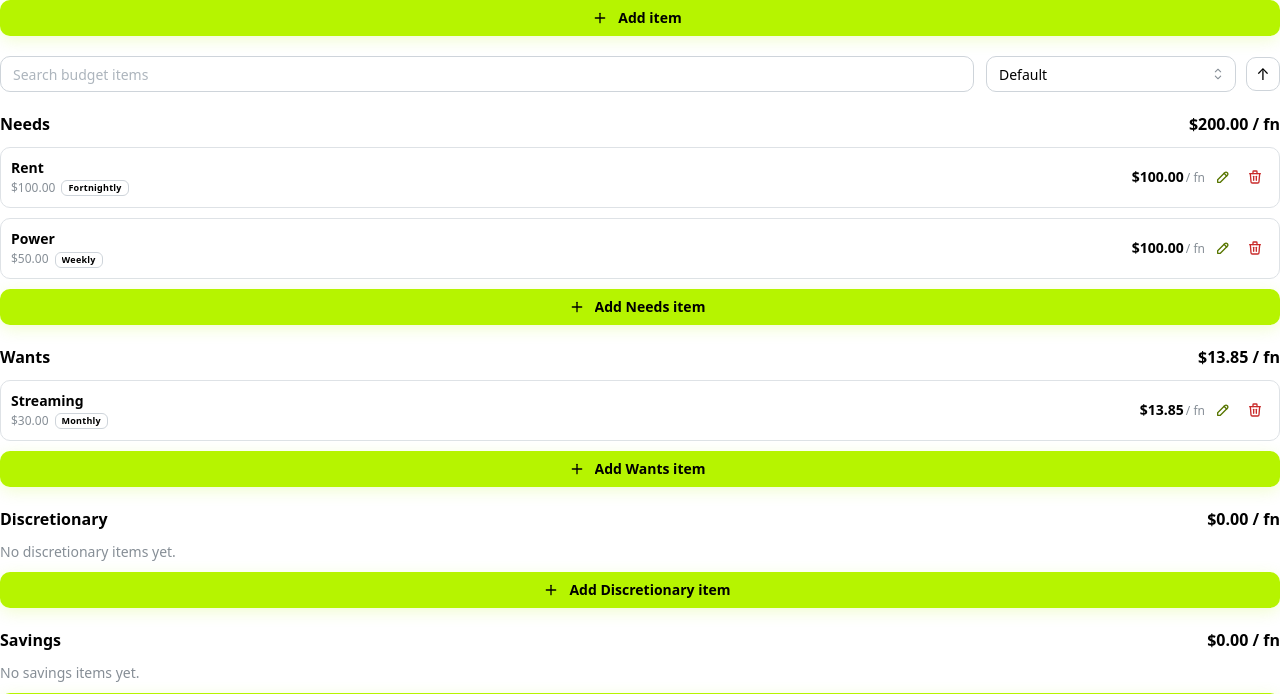
Test: BudgetLineList › clears the search with the clear button
Type "rent" into the field labelled "Search budget items" at (487, 74), box [0, 56, 974, 92]
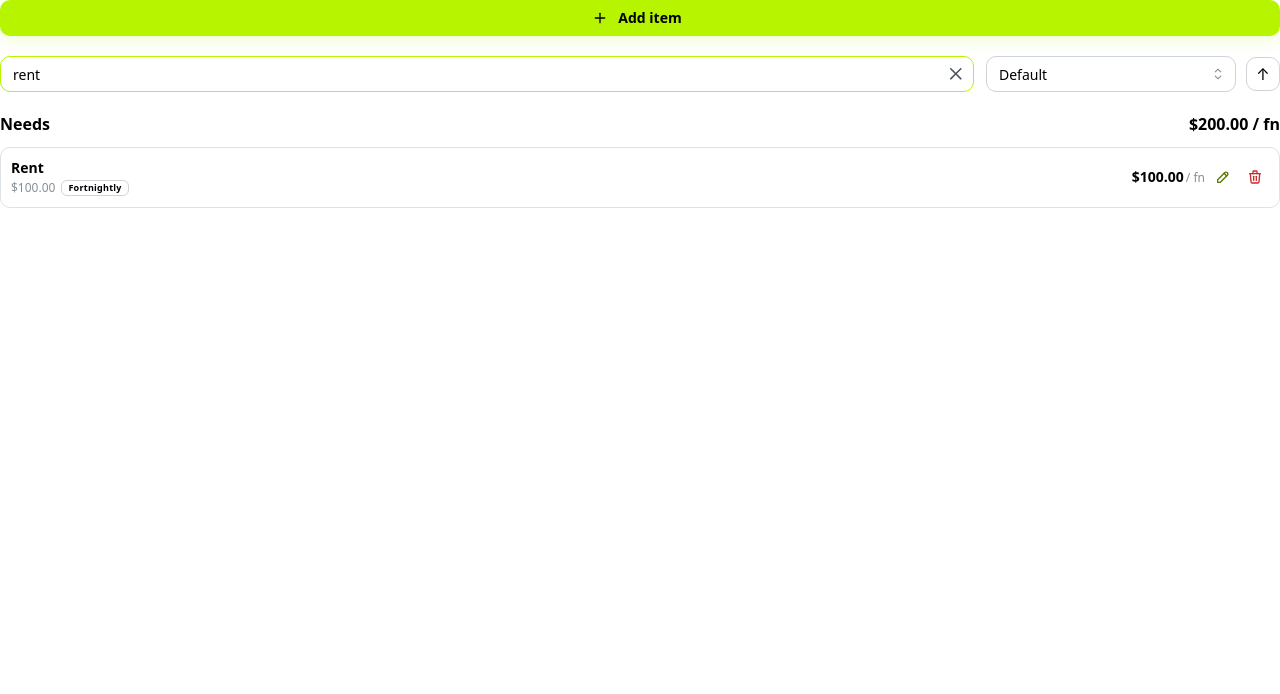
Click the button named "clear search" at (956, 74), box [942, 60, 970, 88]
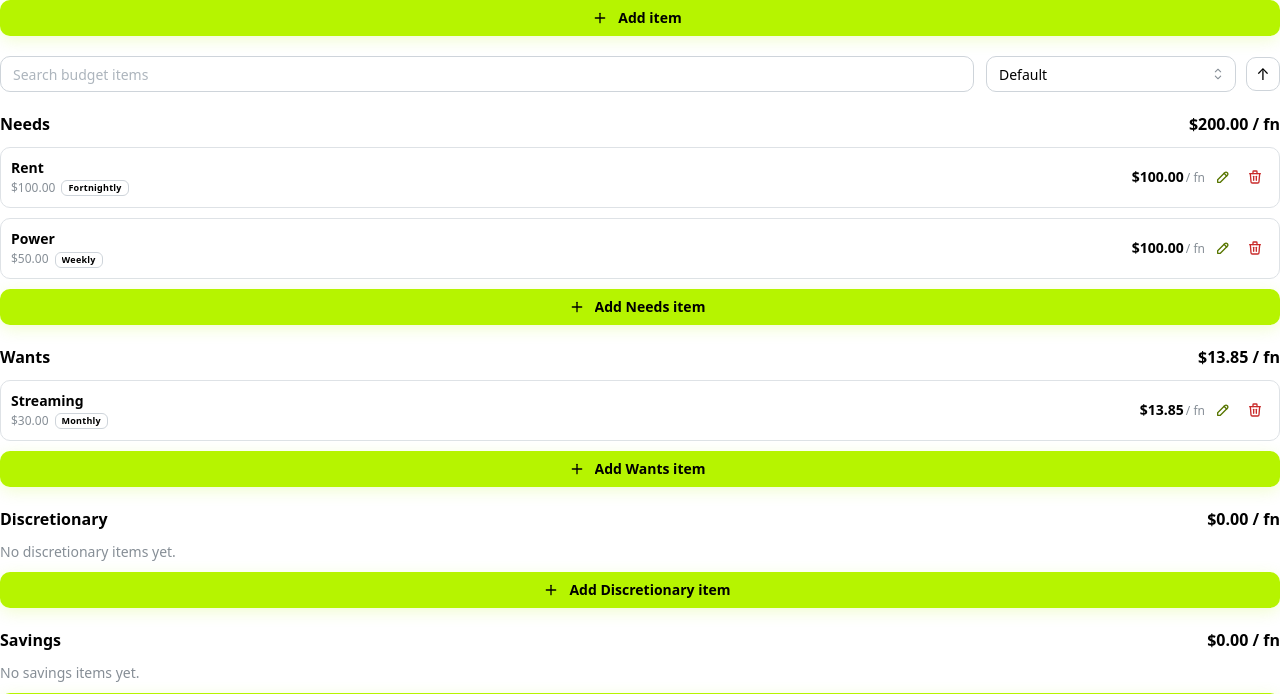
Expected: the field labelled "Search budget items" is empty, [0, 56, 974, 92]
Expected: the text "Power" is shown, [11, 229, 55, 249]
